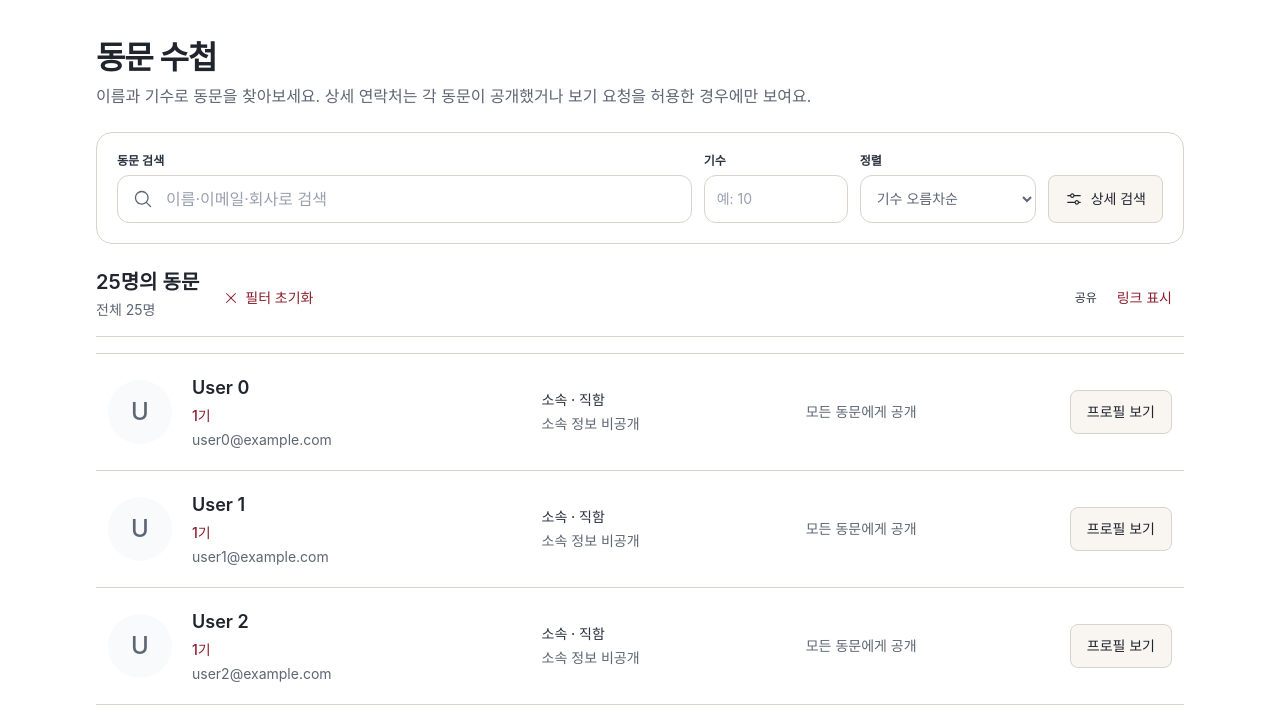
Test: DirectoryPage 공유 링크/페이지 요약 › URL 파라미터와 연동된 요약/공유 링크를 표시한다
# 공유 링크 패널 토글 후 링크 노출 확인
Click the button "링크 표시": (1144, 298) x1=1105 y1=276 x2=1184 y2=320
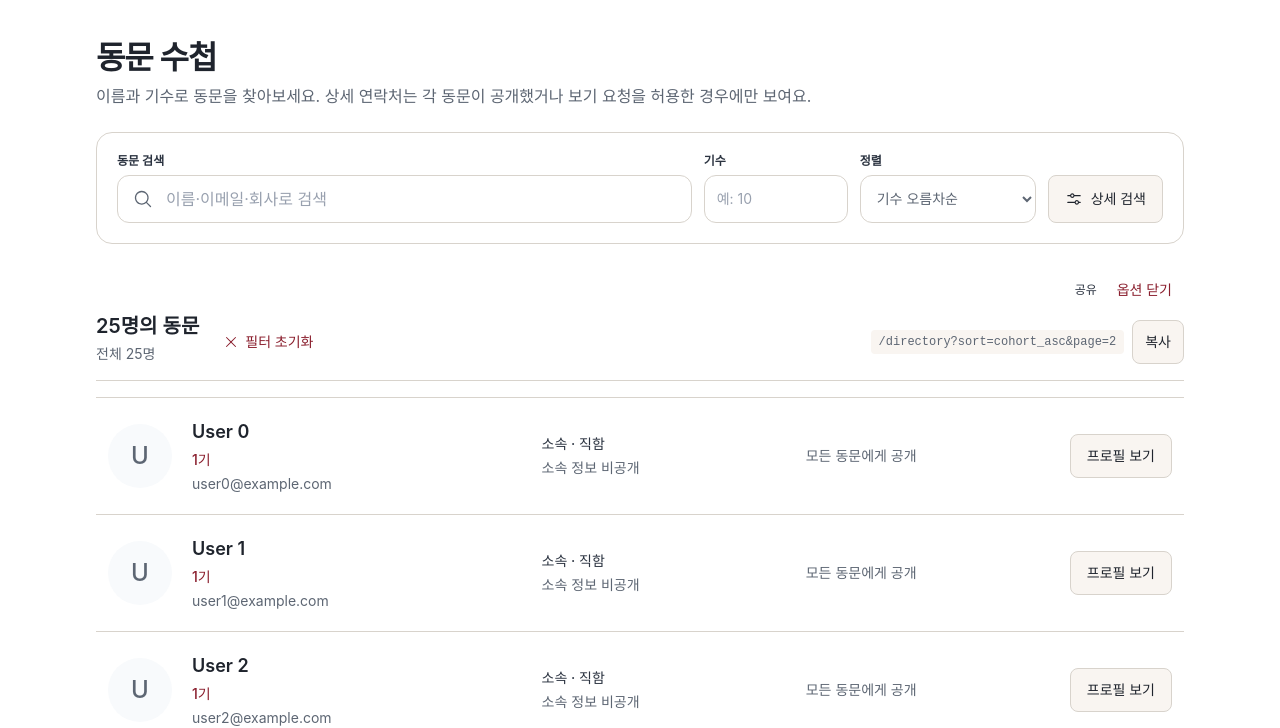
Check: the heading "25명의 동문" is shown, box x1=96 y1=312 x2=199 y2=340
Check: the text "/directory?sort=cohort_asc&page=2" is shown, box x1=871 y1=330 x2=1124 y2=354
